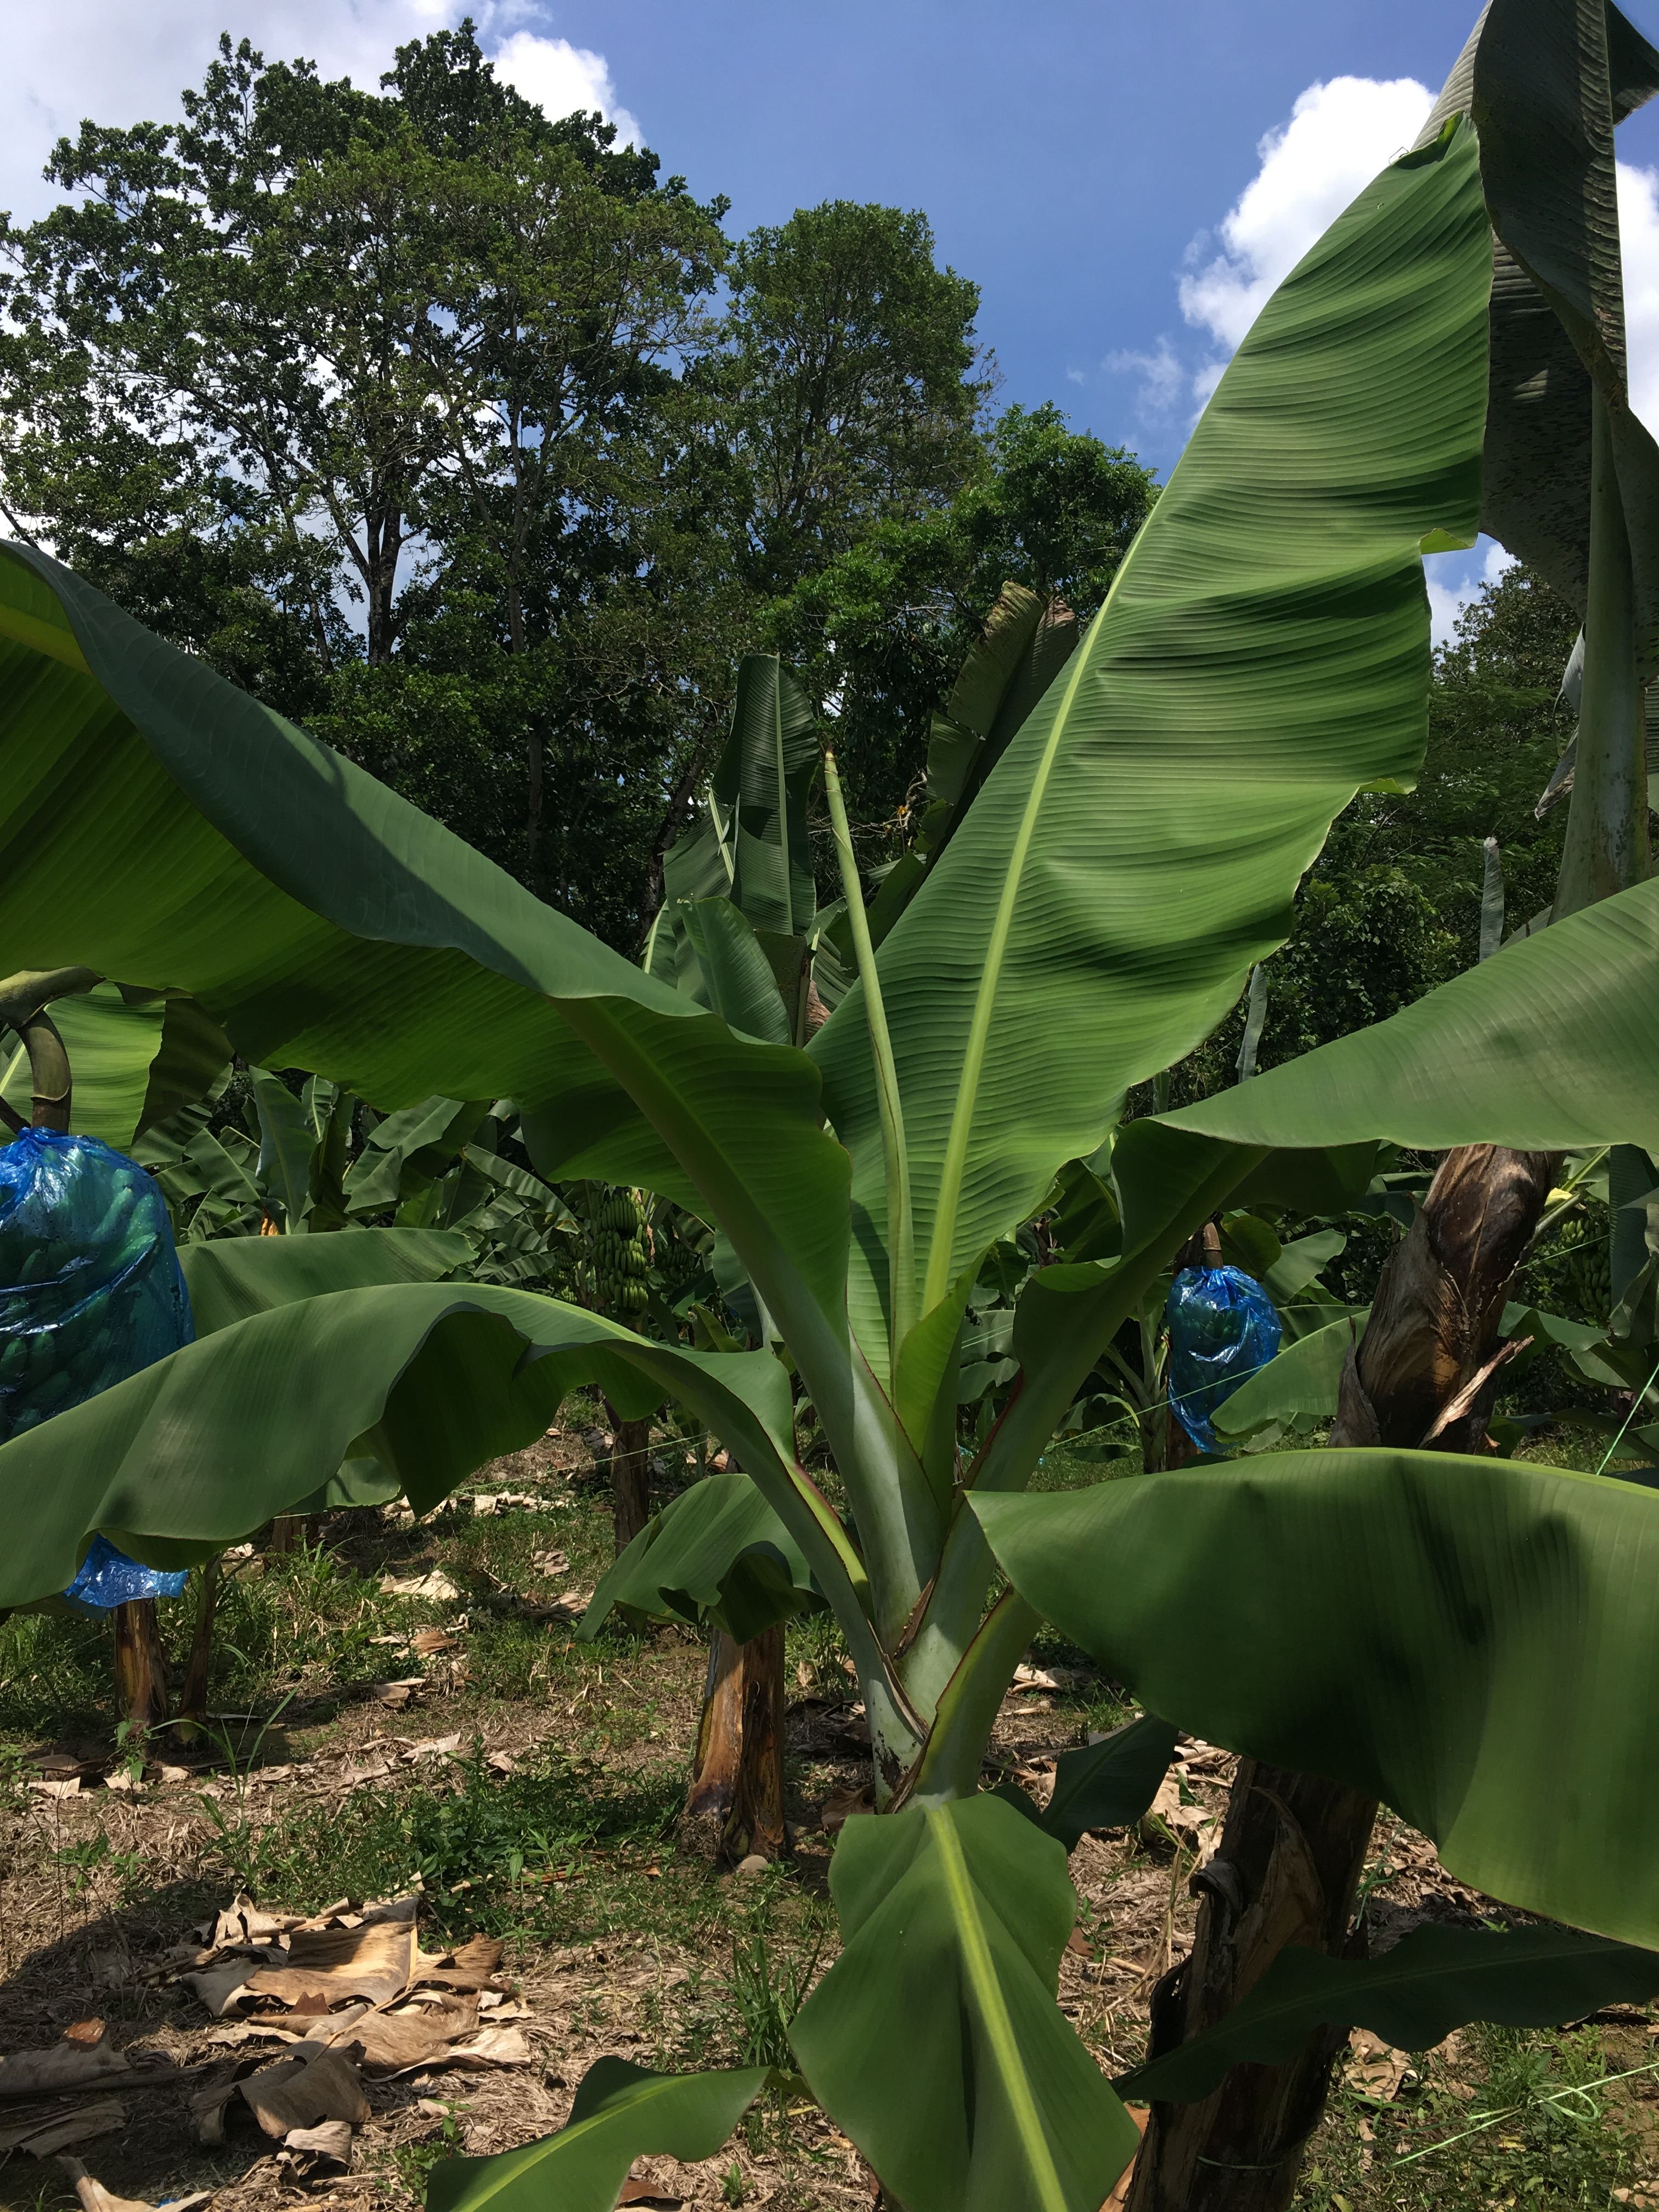candleleafs: (821, 744, 915, 1331)
